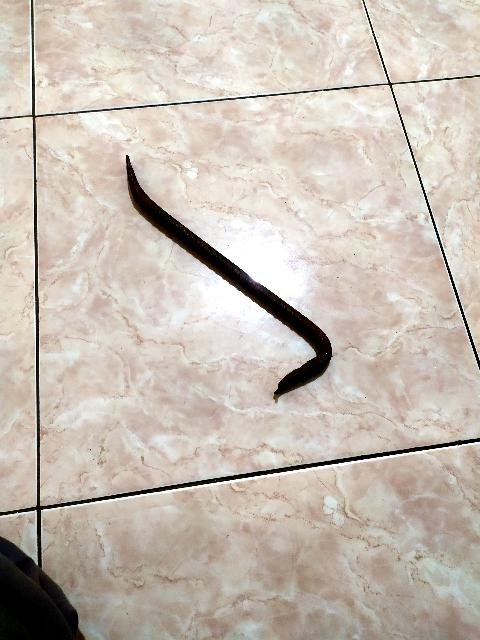crow bar: (109, 157, 336, 406)
